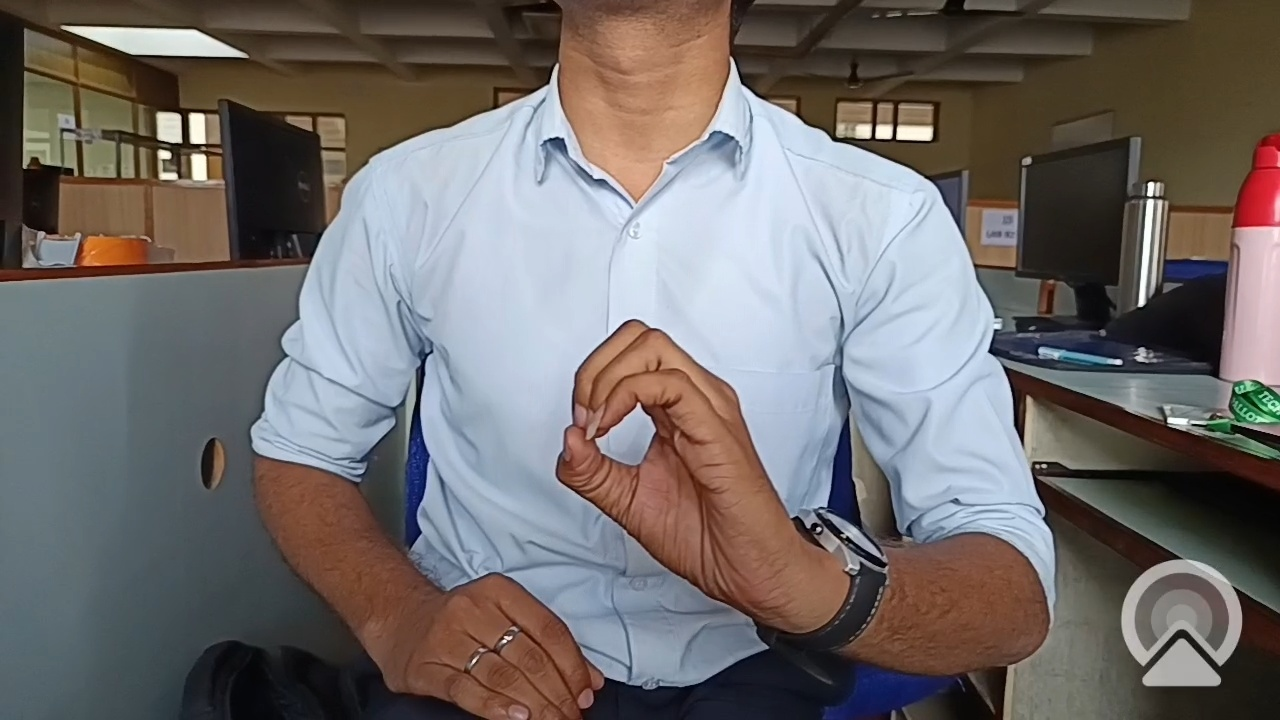O: (549, 274, 814, 661)
